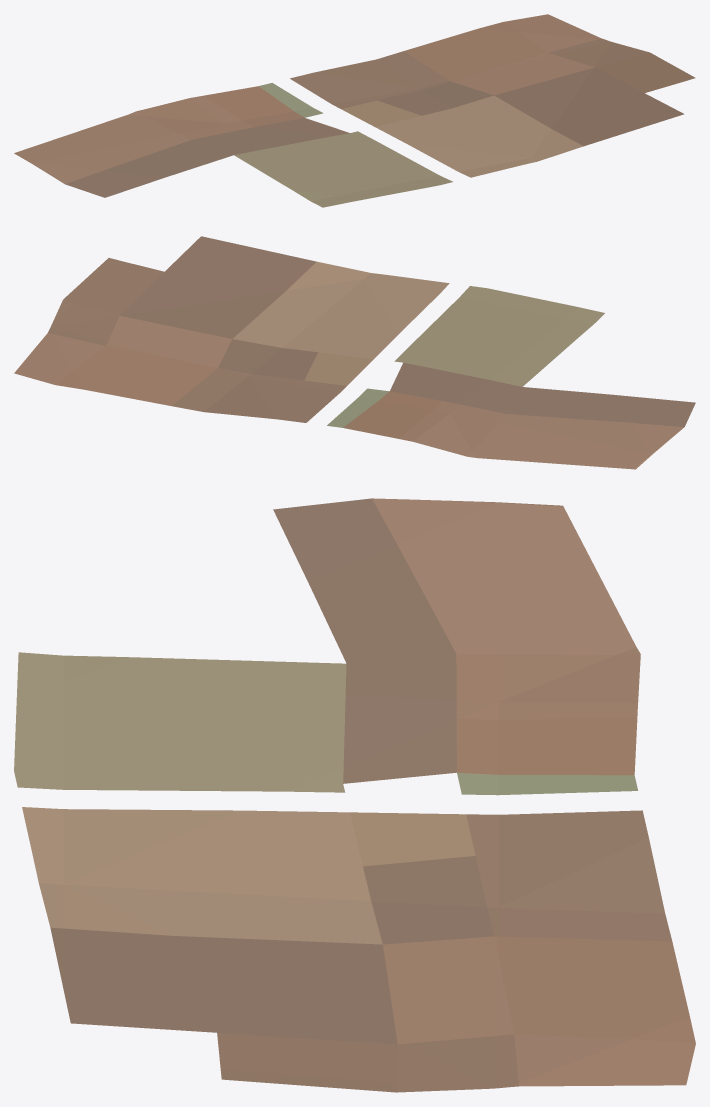
The model's file is farm_6_-6_soil.glb.
The picture shows the model from 3 angles, top to bottom: view 1: azimuth 30°, elevation 25°; view 2: azimuth 150°, elevation 25°; view 3: azimuth 270°, elevation 25°; orthographic projection. The views are drawn at different scales.
Parts seen in each view (by area): view 1: geometry_0; view 2: geometry_0; view 3: geometry_0.
Part boxes in pixels (x1,y1,x2,y2): geometry_0: (14,14,695,207); geometry_0: (14,236,695,469); geometry_0: (14,498,695,1092).
Bounding box in the file's own units: 245 × 11.48 × 126.
